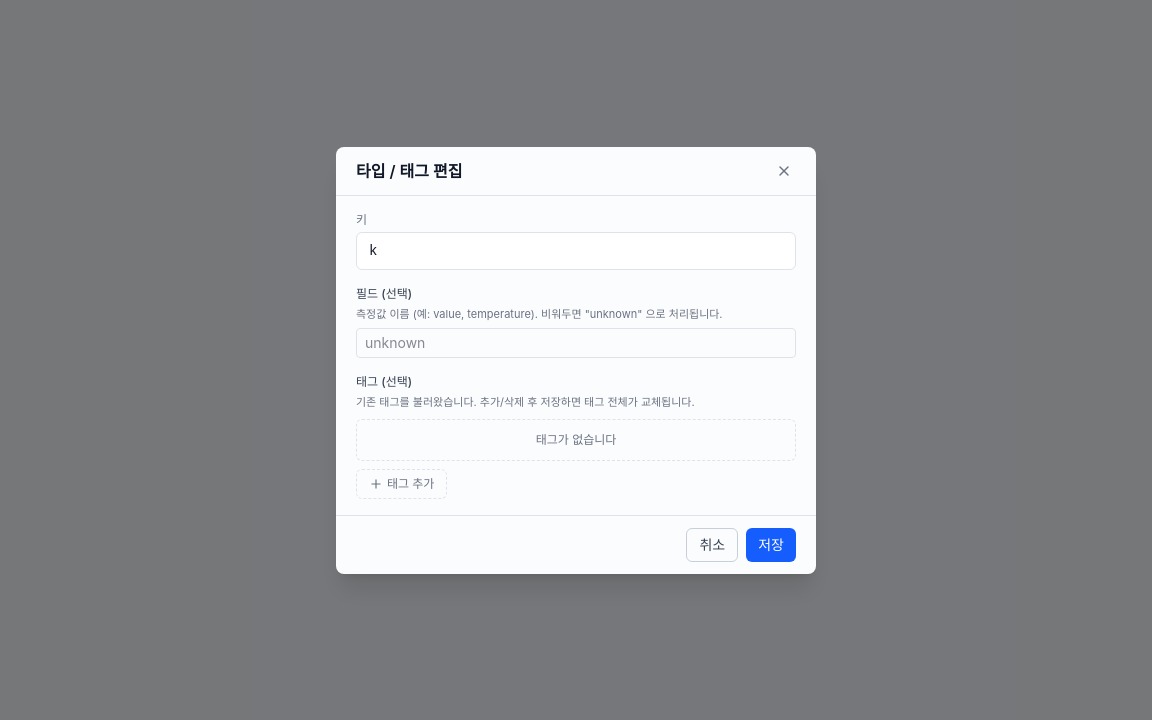
EditKeyMetaDialog › field 정규식 위반 시 저장 버튼이 비활성된다
Type "bad type!" into the field labelled "필드 (선택)". click: (576, 343)
box: x1=356 y1=328 x2=796 y2=358
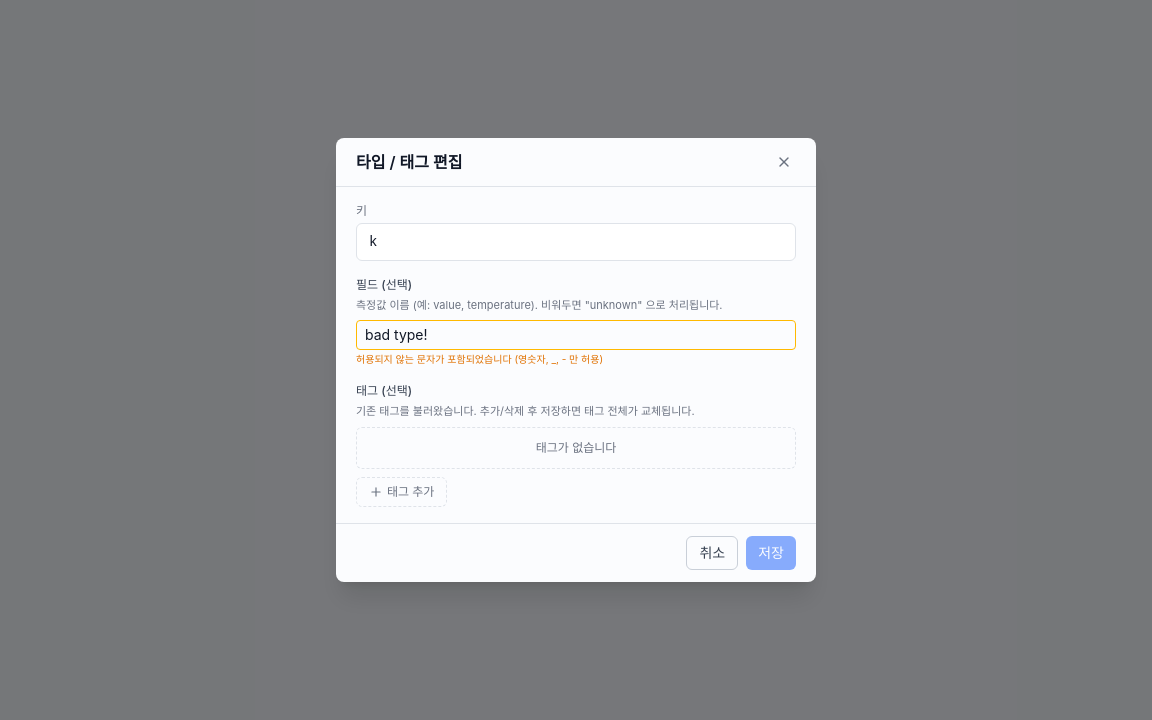
Expected: the button with test id "edit-key-meta-confirm" is disabled, x1=746 y1=536 x2=796 y2=570
Expected: the text "허용되지 않는 문자가 포함되었습니다 (영숫자, _, - 만 허용)" is shown, x1=356 y1=352 x2=603 y2=364
